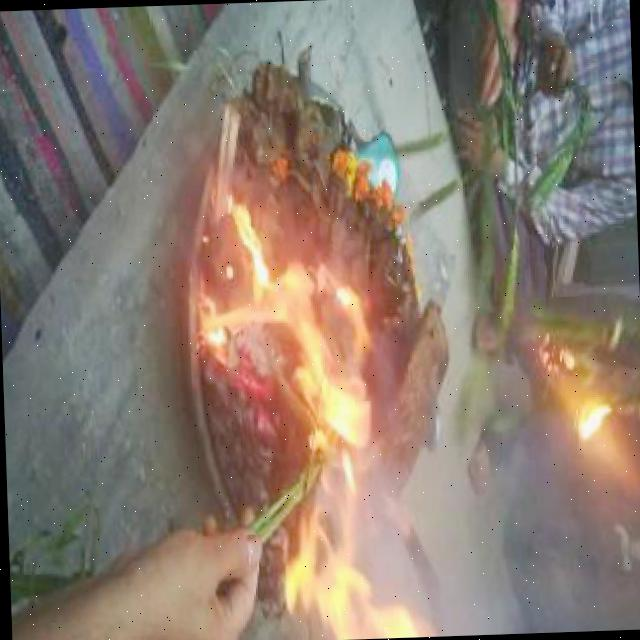fire: (211, 222, 368, 418), (273, 521, 429, 640), (562, 393, 622, 447)
